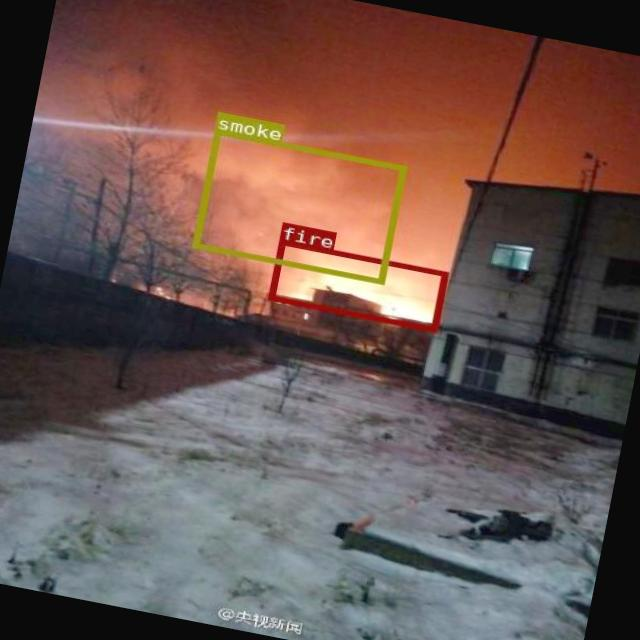fire: (267, 238, 448, 332)
smoke: (192, 128, 405, 284)
